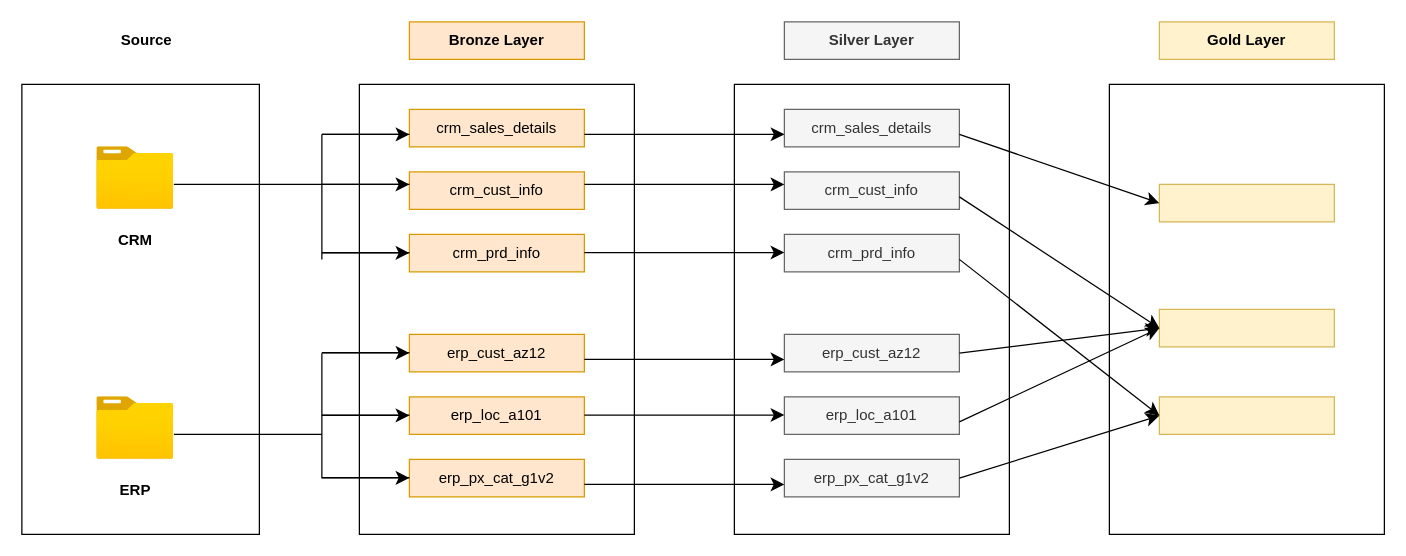
Some shapes in this 1406 by 556 pixel diagram are drawn without their labels. The shapes that lost their labels are listed below. From the top down, each one's box as (x1, y1, x2, y2) in pixels, then its label:
(1158, 183, 1334, 222): fact_sales
(1158, 308, 1334, 347): dim_customer
(1158, 396, 1334, 434): dim_products
